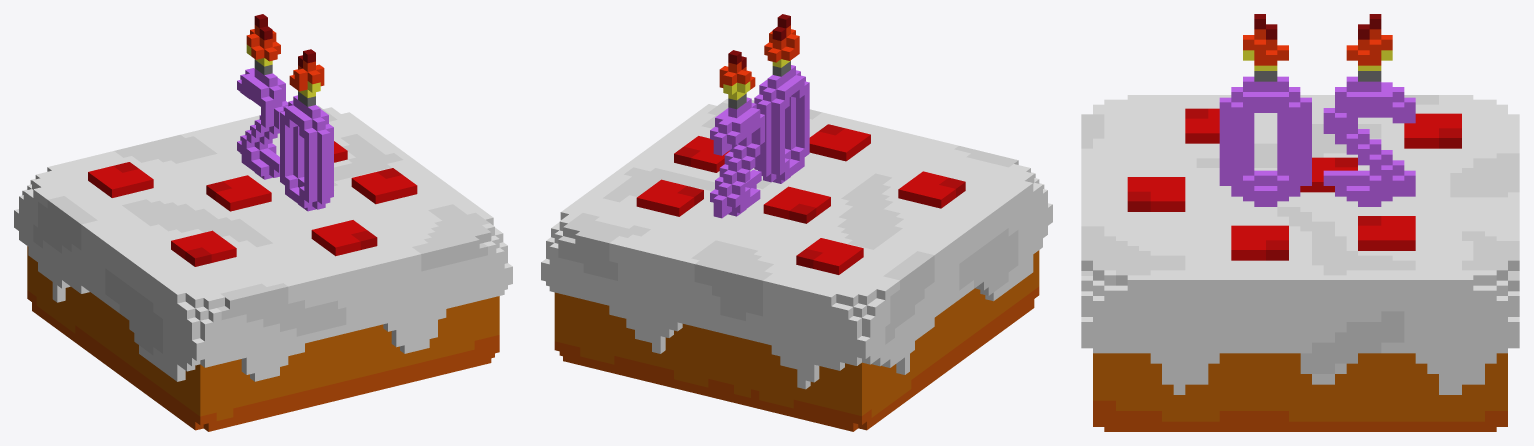
File: cake1.obj
The picture shows the model from 3 angles, left to right: view 1: azimuth 30°, elevation 25°; view 2: azimuth 150°, elevation 25°; view 3: azimuth 270°, elevation 25°; orthographic projection. The views are drawn at different scales.
Parts seen in each view (by area): view 1: cake-1; view 2: cake-1; view 3: cake-1.
Boxes of the visible parts, x1,y1,x2,y2 form: cake-1: (14,14,512,431); cake-1: (541,14,1052,431); cake-1: (1081,14,1519,431).
Bounding box in the file's own units: 3.8 × 3.3 × 3.8.
1 material, 1 textured.
